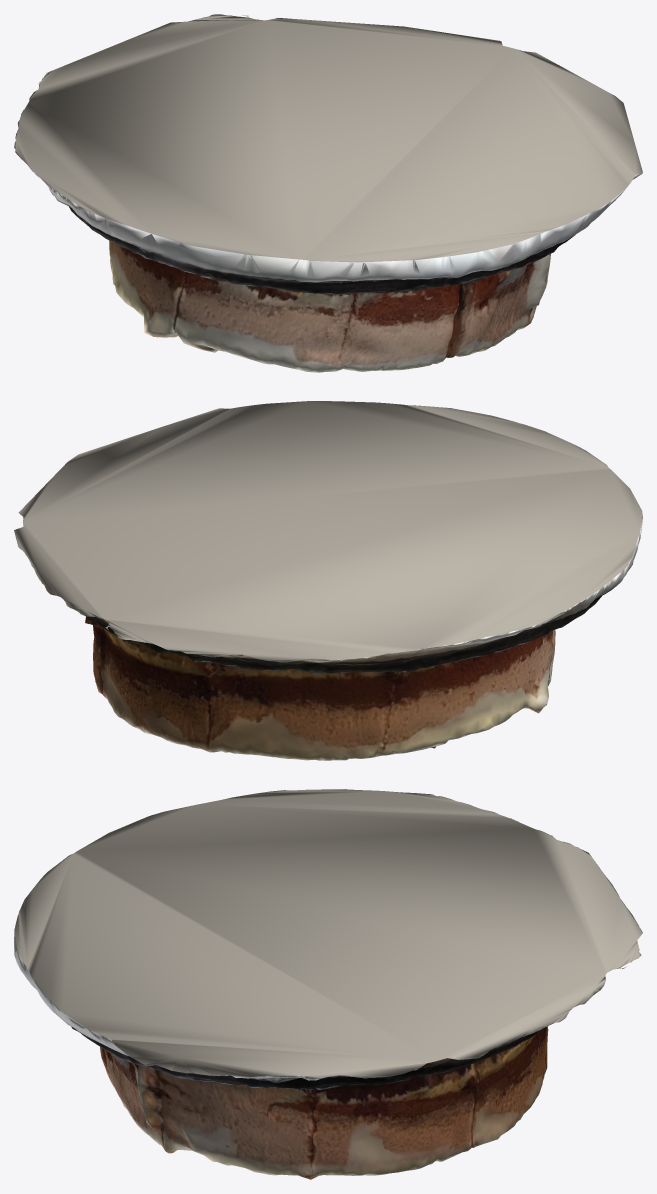
File: cake_16670.obj
3 views of the same model, one above another, from view 1: azimuth 30°, elevation 25°; view 2: azimuth 150°, elevation 25°; view 3: azimuth 270°, elevation 25° (orthographic). The views are drawn at different scales.
Bounding box in the file's own units: 0.1761 × 0.0565 × 0.1767.
1 material, 1 textured.
